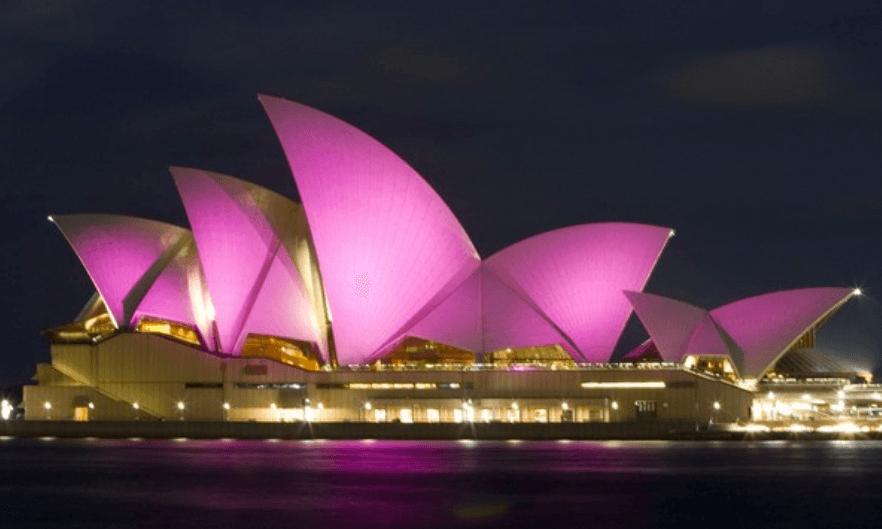opera house: (7, 31, 875, 405)
